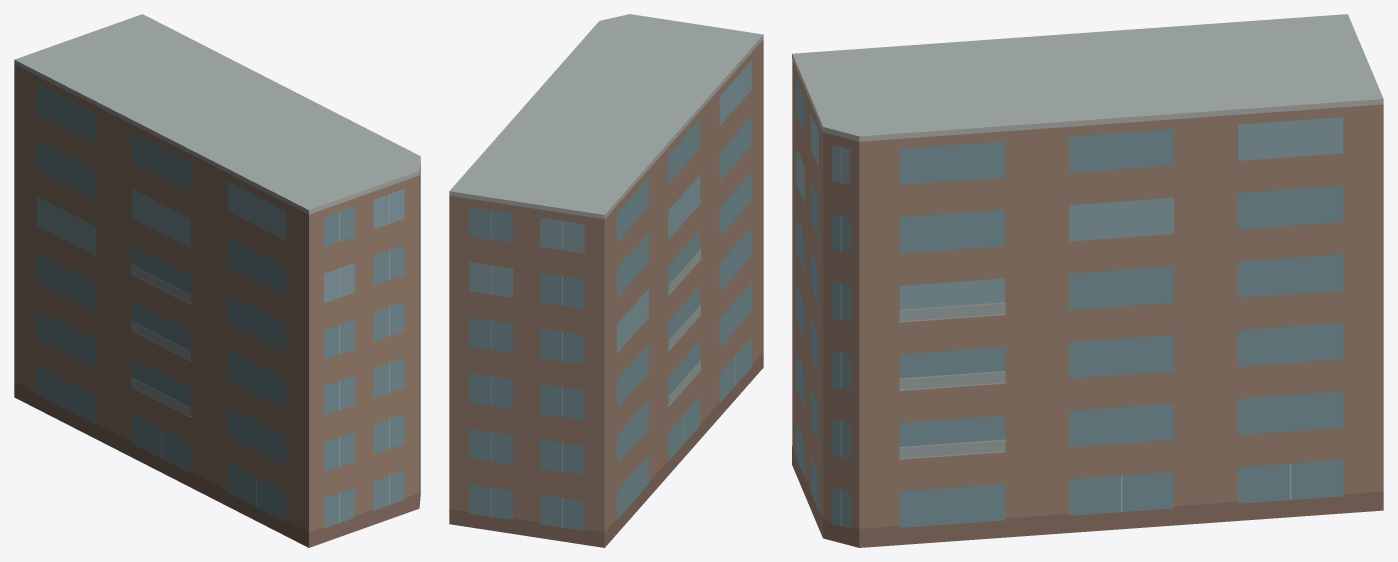
Rendered from survey-upis-32945976.glb.
3 renders of one model, left to right at view 1: azimuth 30°, elevation 25°; view 2: azimuth 150°, elevation 25°; view 3: azimuth 270°, elevation 25°, orthographic. The views are drawn at different scales.
Parts seen in each view (by area): view 1: survey-upis-32945976.tmp; view 2: survey-upis-32945976.tmp; view 3: survey-upis-32945976.tmp.
Boxes of the visible parts, bbox=[...] form: survey-upis-32945976.tmp: bbox=[14, 14, 420, 547]; survey-upis-32945976.tmp: bbox=[449, 14, 763, 547]; survey-upis-32945976.tmp: bbox=[792, 14, 1383, 547].
Size of the model in its own units: 11.88 by 18.6 by 24.24.
